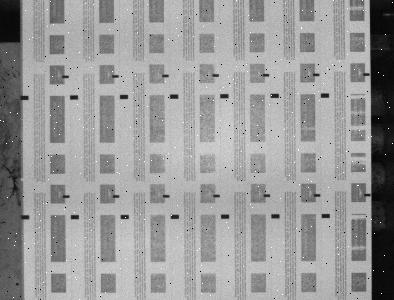qblock: (120, 214, 129, 219), (321, 213, 330, 218), (20, 95, 29, 100), (170, 94, 178, 99), (120, 94, 128, 99), (271, 93, 279, 98), (171, 214, 179, 219), (70, 95, 78, 100), (220, 94, 229, 98), (271, 214, 280, 218), (71, 215, 79, 219), (21, 215, 29, 219), (321, 93, 329, 97), (221, 214, 229, 218)
smallqblock: (163, 194, 170, 198), (112, 74, 119, 78), (263, 73, 269, 77), (63, 195, 70, 198), (313, 73, 320, 76), (213, 194, 220, 197), (62, 75, 69, 78), (212, 74, 219, 77), (363, 73, 370, 76), (162, 74, 169, 77), (364, 193, 371, 196), (313, 194, 320, 197), (263, 194, 270, 197), (113, 195, 119, 198)
